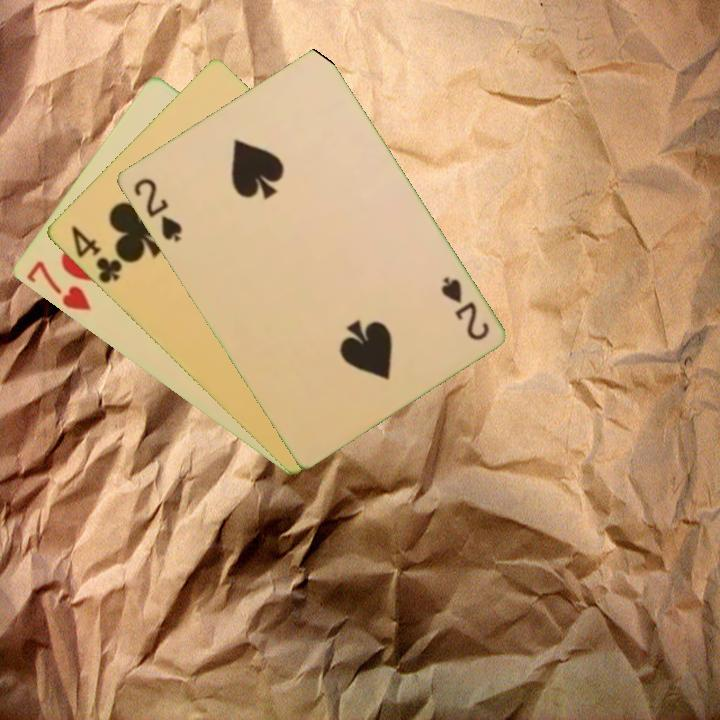2s: (129, 174, 185, 246), (436, 272, 492, 344)
4c: (67, 222, 125, 287)
7h: (22, 257, 93, 314)
